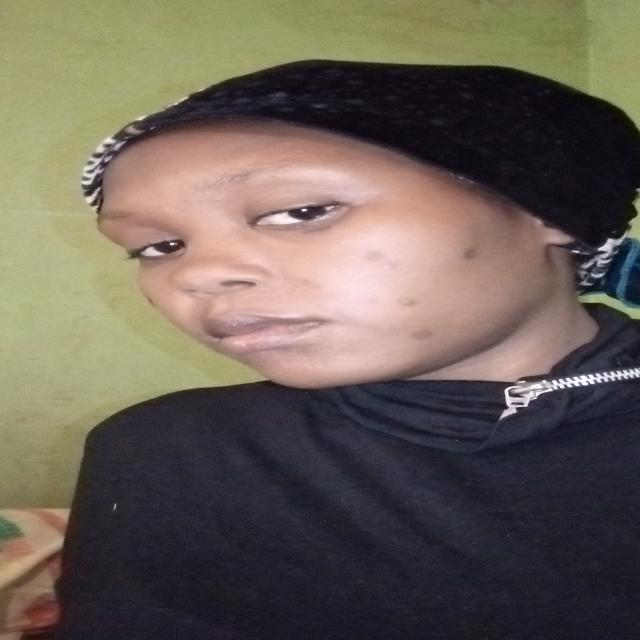Acne: (405, 328, 437, 341), (294, 276, 322, 290), (361, 249, 383, 263), (394, 296, 418, 308), (460, 247, 480, 261), (364, 295, 384, 306), (379, 262, 400, 272), (208, 196, 223, 204)
Eyebags: (247, 205, 361, 236), (138, 245, 187, 268)
